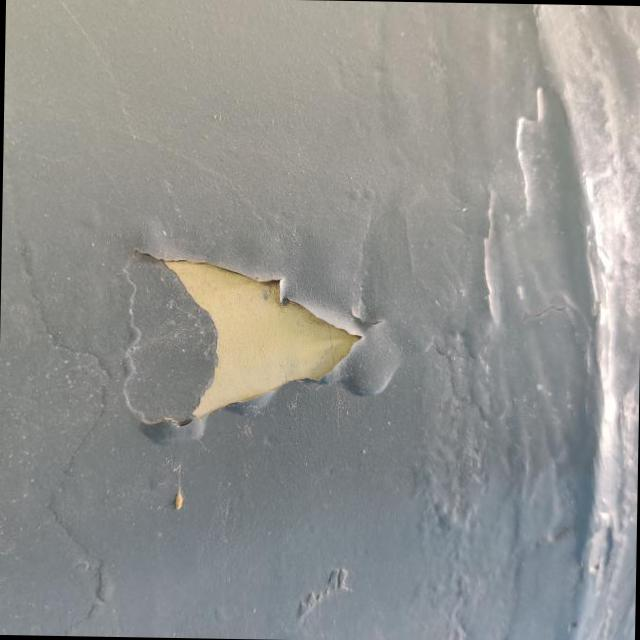Paint-off: (123, 255, 357, 428)
